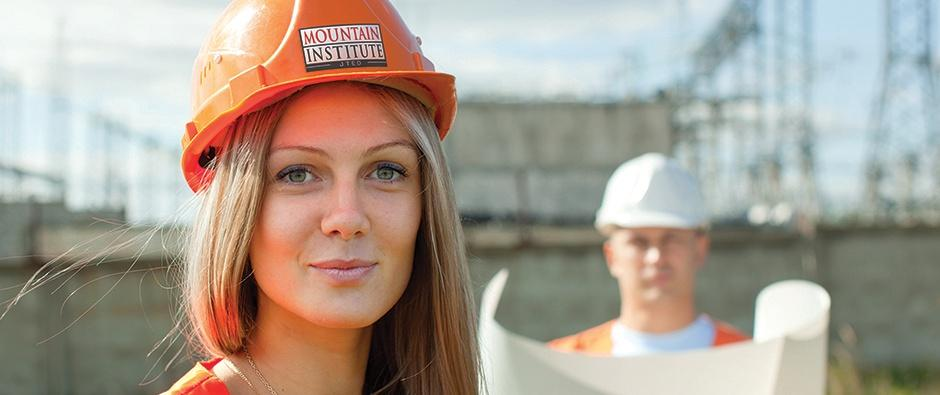helmet: (181, 1, 460, 198), (593, 153, 711, 239)
